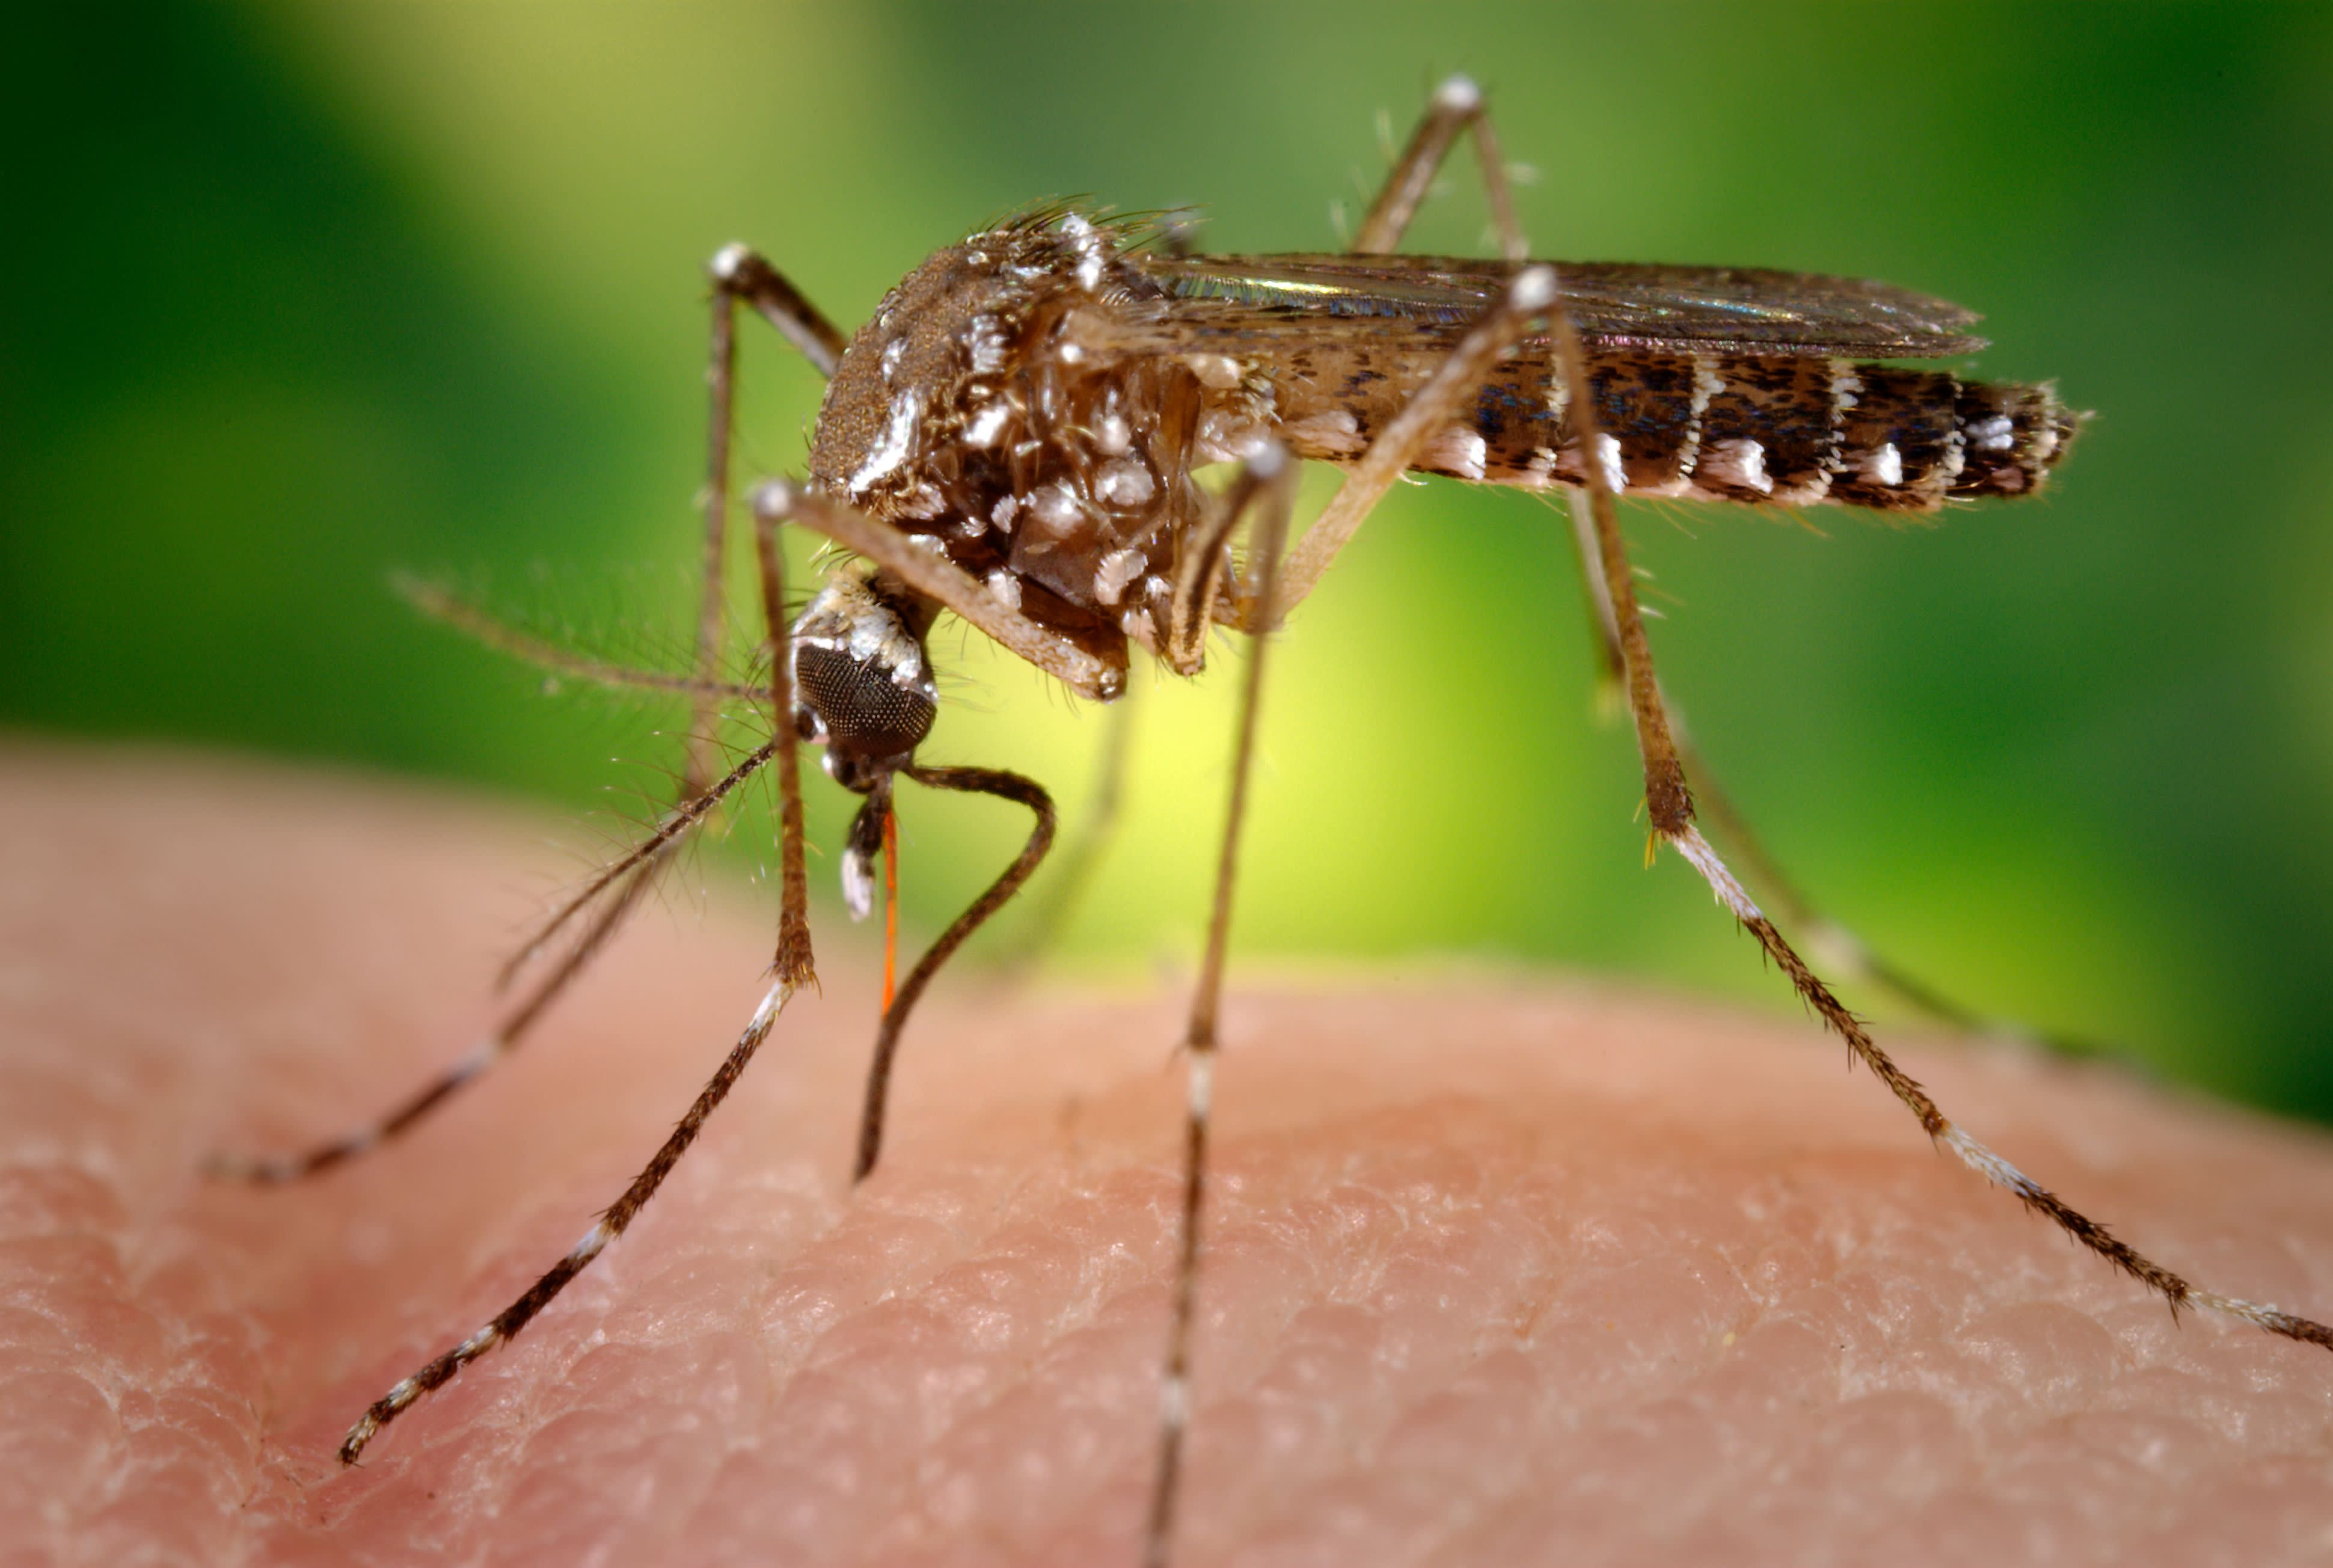dengue_mosquito: (385, 70, 2100, 1277)
